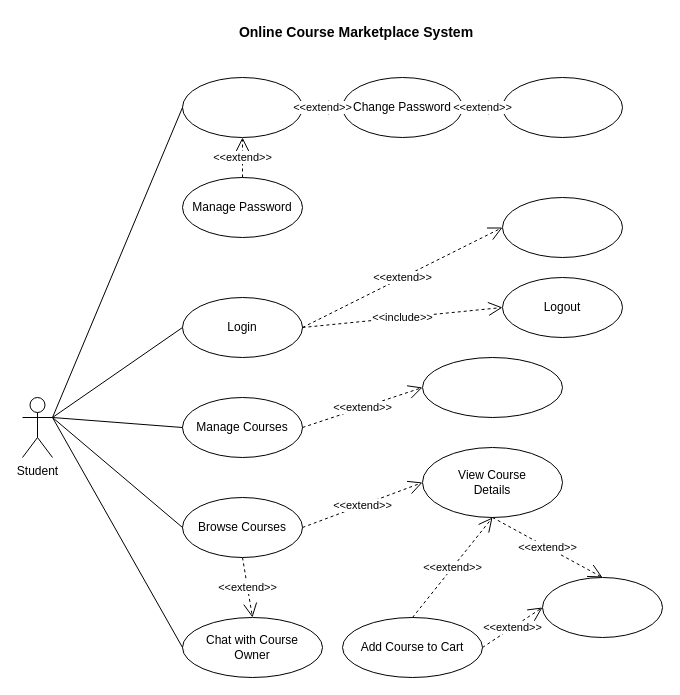
The diagram is 680 pixels wide and 695 high, and some of its shapes have lost their labels. The centre of each missing label's shape, as x and y in pixels:
"Authentication" goes at point (562, 227).
"Checkout Cart" goes at point (602, 607).
"Manage Account" goes at point (562, 107).
"Register" goes at point (242, 107).
"View History & Favorites" goes at point (492, 387).
